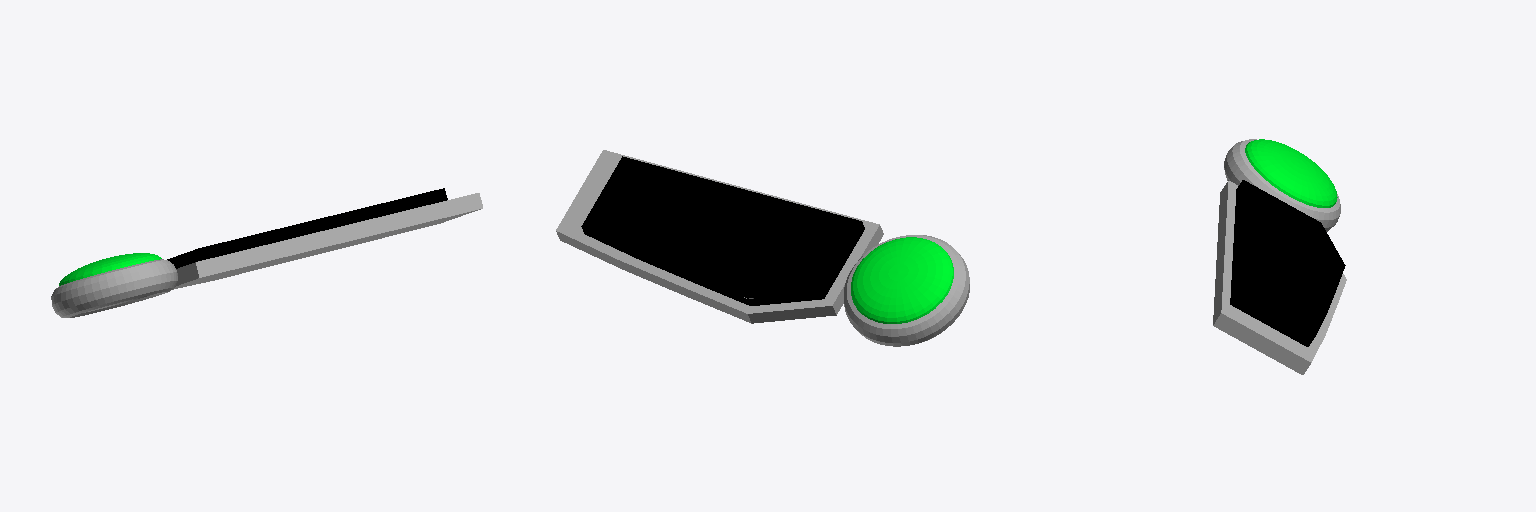
3 renders of one model, left to right at view 1: azimuth 30°, elevation 25°; view 2: azimuth 150°, elevation 25°; view 3: azimuth 270°, elevation 25°, orthographic.
Visible parts, largest first — view 1: 球; view 2: 球; view 3: 球.
Boxes of the visible parts, x1,y1,x2,y2 form: 球: [51, 188, 482, 317]; 球: [556, 150, 969, 346]; 球: [1213, 139, 1346, 374].
Size of the model in its own units: 5.68 by 1.19 by 1.68.
Materials: 1 (1 with a texture image).